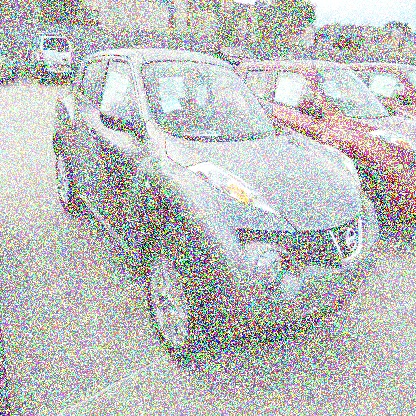Vehicle: (49, 44, 383, 367)
